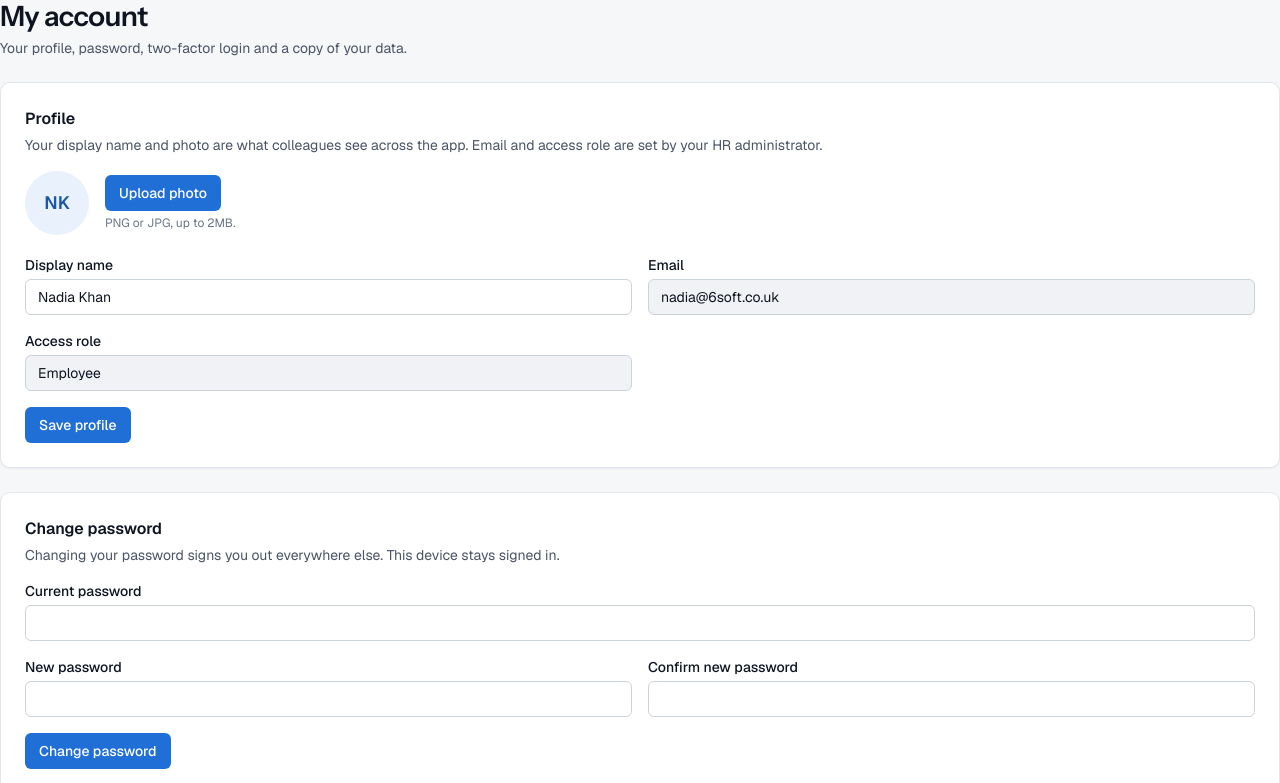
Test: Account page › saves a new display name
Replace the text in the field labelled "Display name" with "Nadia K". click: (328, 297)
box: [25,279,632,315]
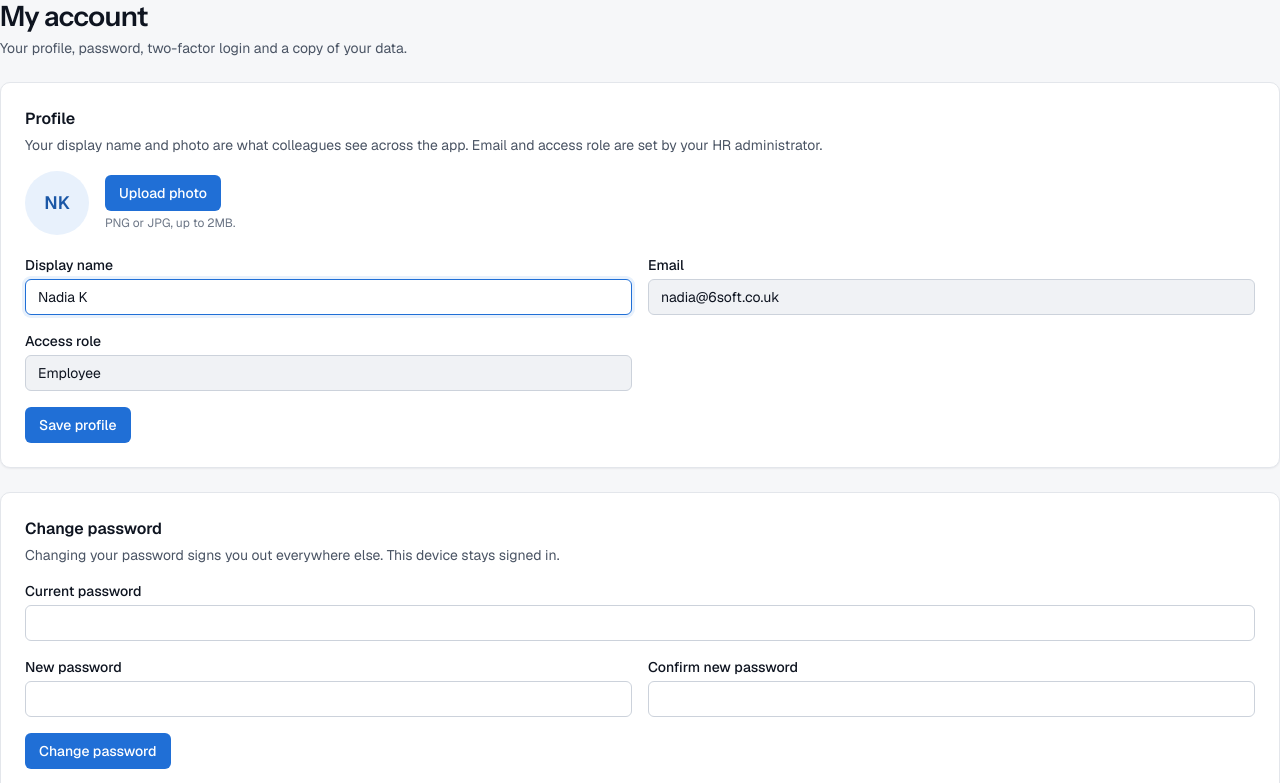
Click the button "Save profile". click: (78, 425)
box: [25,407,130,443]
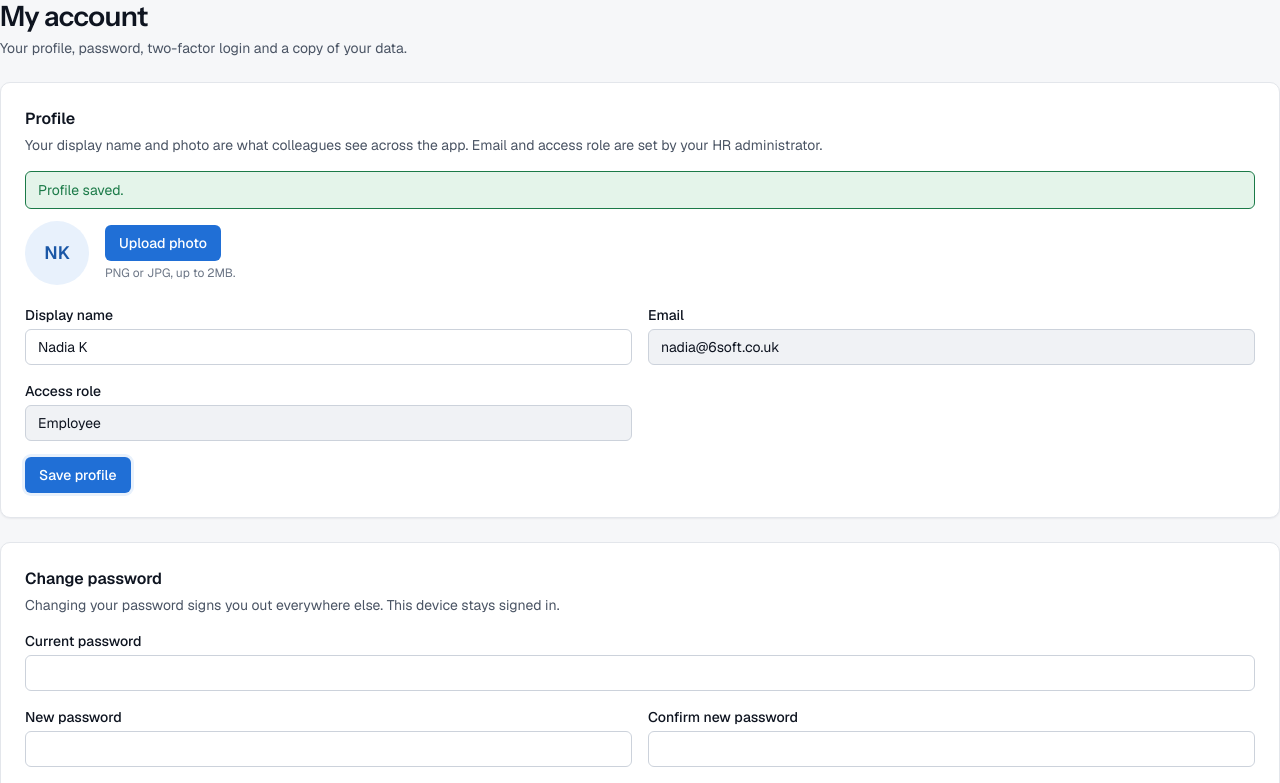
Result: the text "Profile saved." is shown at [25,171,1255,209]
